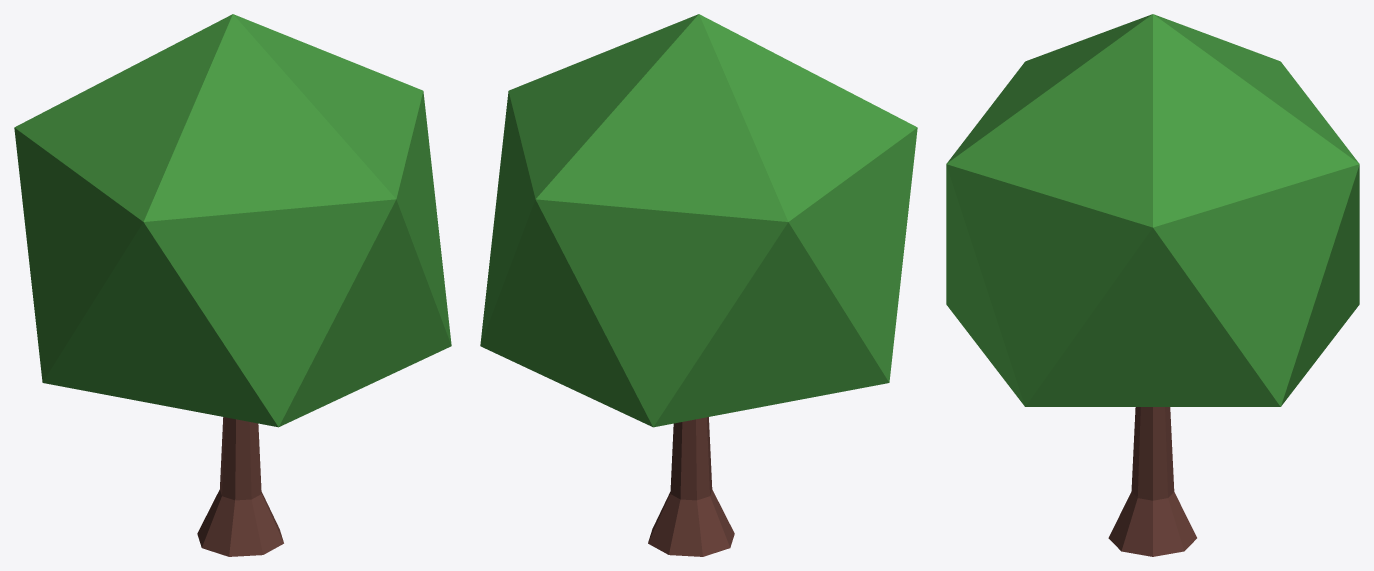
The model's file is ShortTree2.fbx.
3 views of the same model, side by side, from view 1: azimuth 30°, elevation 25°; view 2: azimuth 150°, elevation 25°; view 3: azimuth 270°, elevation 25° (orthographic).
Parts seen in each view (by area): view 1: ShortTree; view 2: ShortTree; view 3: ShortTree.
Part boxes in pixels (<box>): ShortTree: <box>14,14,451,556</box>; ShortTree: <box>480,14,917,556</box>; ShortTree: <box>946,14,1359,556</box>.
Bounding box in the file's own units: 384 × 507 × 365.
